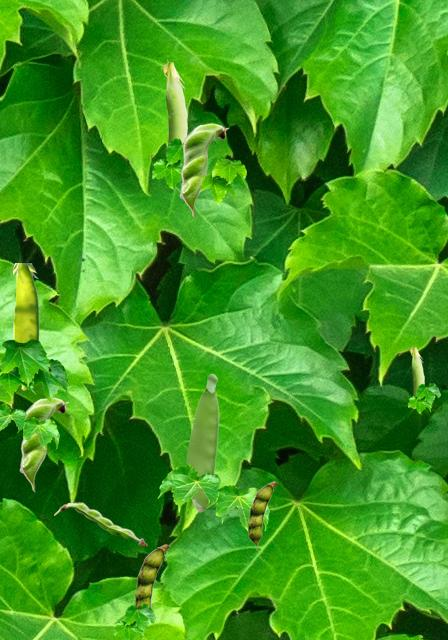pea: (19, 397, 68, 491), (179, 123, 228, 217), (186, 373, 218, 511), (54, 502, 146, 544), (13, 263, 38, 389), (161, 59, 186, 144), (135, 544, 168, 607), (248, 481, 276, 549), (409, 345, 423, 395)
